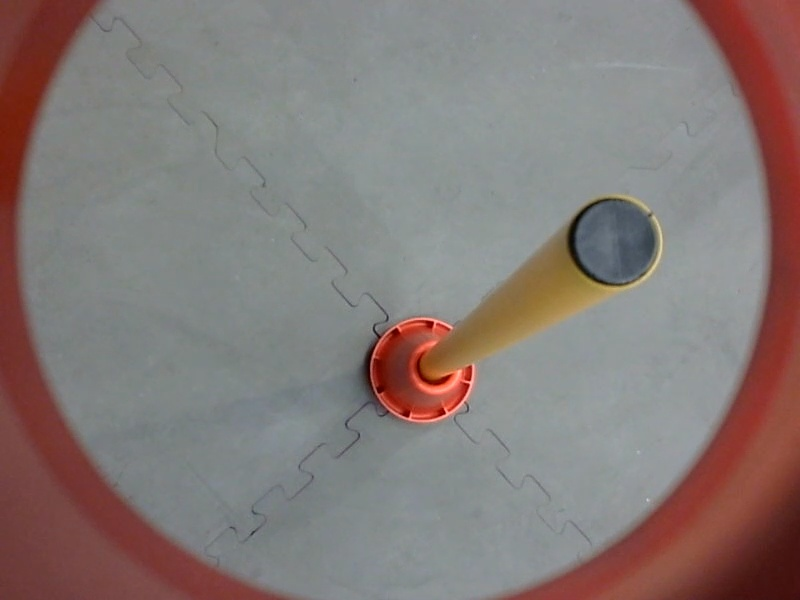tip: (558, 183, 669, 296)
